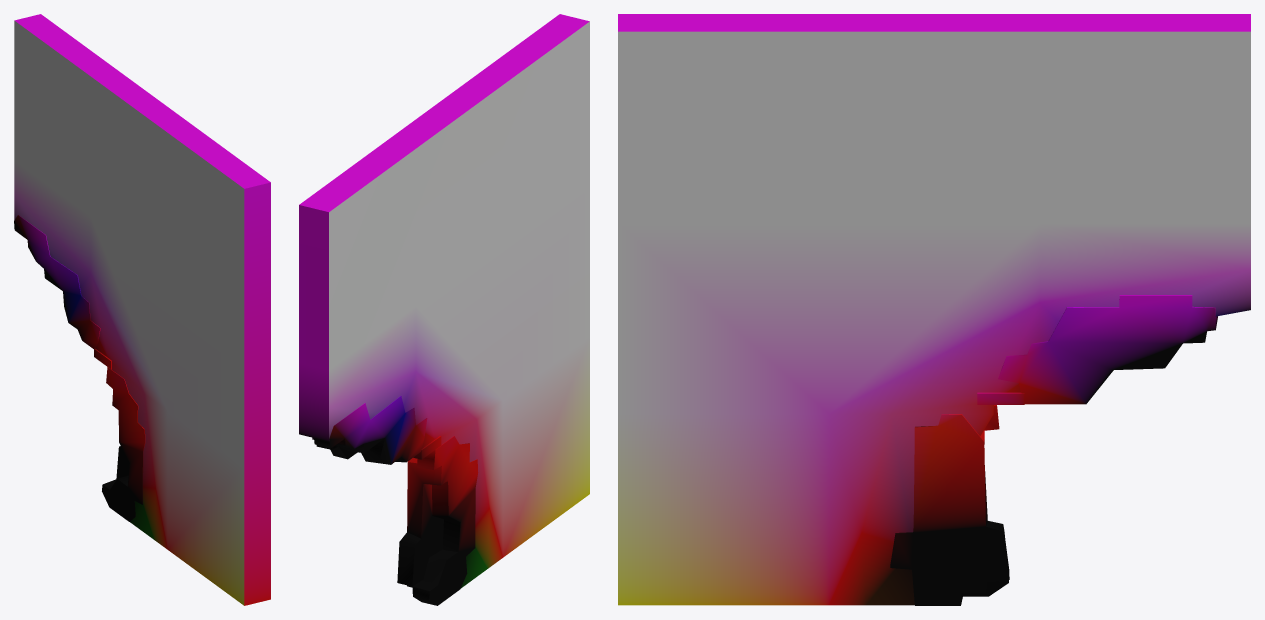
File: DBK_Brick_90_B__1_.fbx
3 views of the same model, side by side, from view 1: azimuth 30°, elevation 25°; view 2: azimuth 150°, elevation 25°; view 3: azimuth 270°, elevation 25° (orthographic). The views are drawn at different scales.
Parts seen in each view (by area): view 1: DBK_Brick_90_B__1_; view 2: DBK_Brick_90_B__1_; view 3: DBK_Brick_90_B__1_.
Part boxes in pixels (x1=…): DBK_Brick_90_B__1_: x1=14, y1=14, x2=270, y2=605; DBK_Brick_90_B__1_: x1=299, y1=14, x2=589, y2=605; DBK_Brick_90_B__1_: x1=618, y1=14, x2=1250, y2=605.
Size of the model in its own units: 21.98 by 300 by 300.
